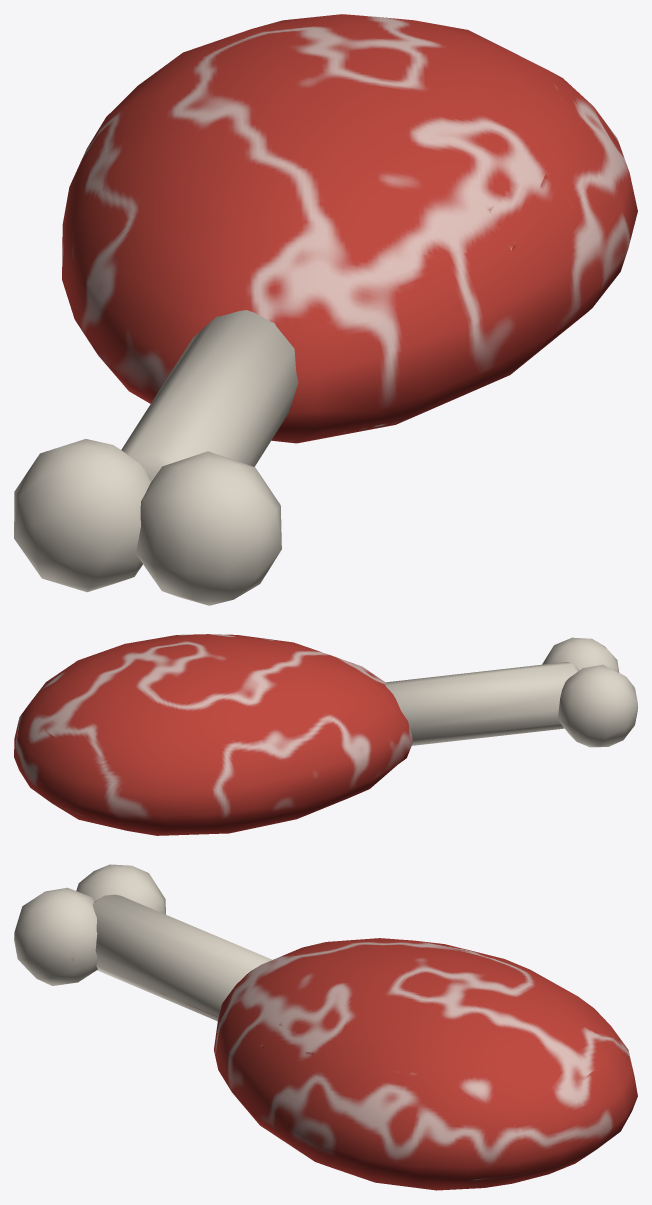
File: item_meat_raw.glb
3 renders of one model, top to bottom at view 1: azimuth 30°, elevation 25°; view 2: azimuth 150°, elevation 25°; view 3: azimuth 270°, elevation 25°, orthographic. The views are drawn at different scales.
Visible parts, largest first — view 1: meat_bone; view 2: meat_bone; view 3: meat_bone.
Part boxes in pixels (box(x1,y1,x2,y2)): meat_bone: box(14, 14, 637, 605); meat_bone: box(14, 634, 637, 835); meat_bone: box(14, 864, 637, 1190).
Bounding box in the file's own units: 0.6975 × 0.22 × 0.6976.
Materials: 1 (1 with a texture image).
